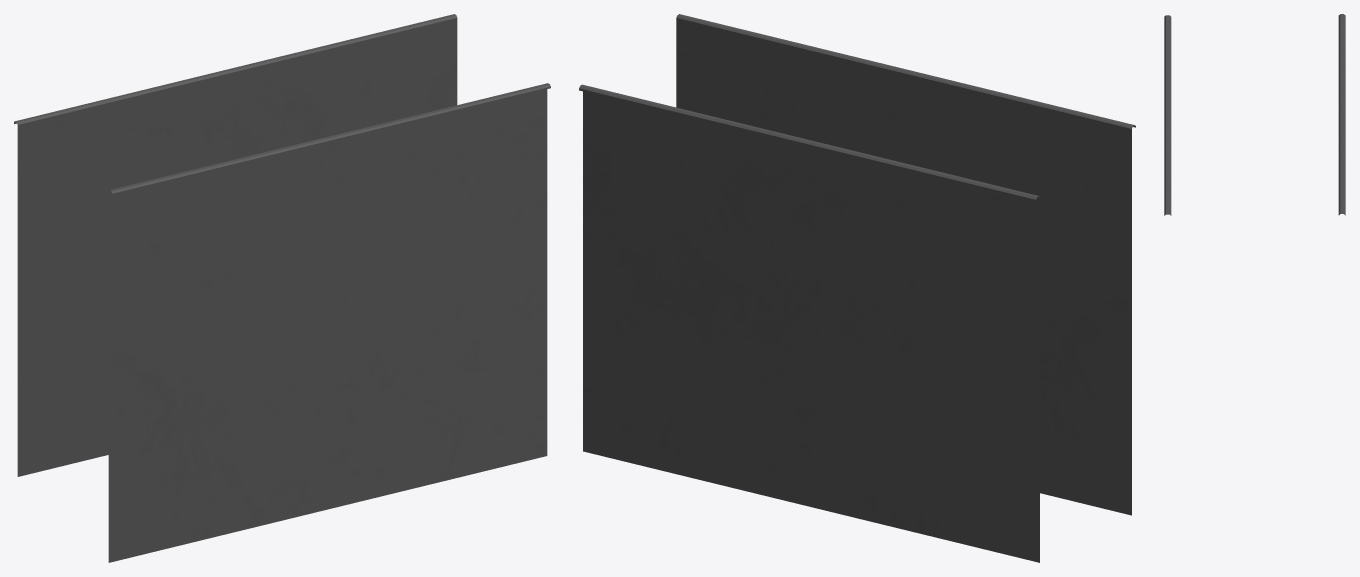
File: falls.obj
3 views of the same model, side by side, from view 1: azimuth 30°, elevation 25°; view 2: azimuth 150°, elevation 25°; view 3: azimuth 270°, elevation 25° (orthographic). The views are drawn at different scales.
Visible parts, largest first — view 1: Corridor_falls corroridor_4; view 2: Corridor_falls corroridor_4; view 3: Corridor_falls corroridor_4.
Part boxes in pixels (x1,y1,x2,y2): Corridor_falls corroridor_4: (14, 14, 550, 562); Corridor_falls corroridor_4: (579, 14, 1135, 562); Corridor_falls corroridor_4: (1164, 14, 1345, 215).
Bounding box in the file's own units: 25.52 × 20.75 × 9.78.
1 material, 1 textured.
